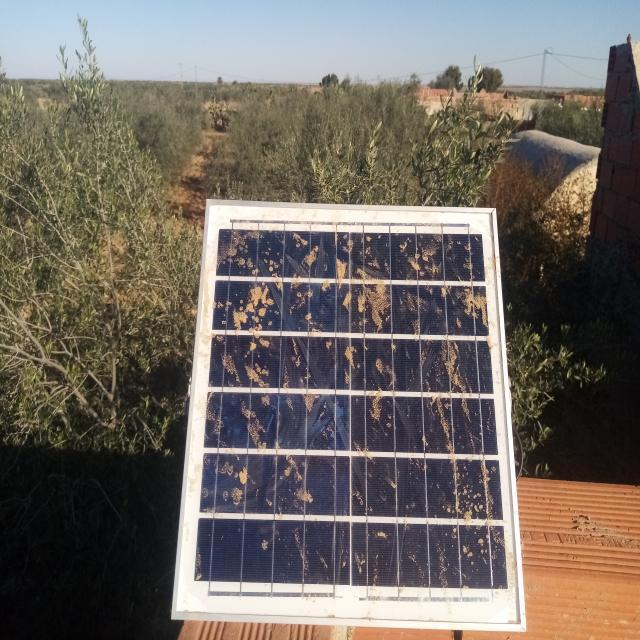faulty: (175, 203, 526, 632)
